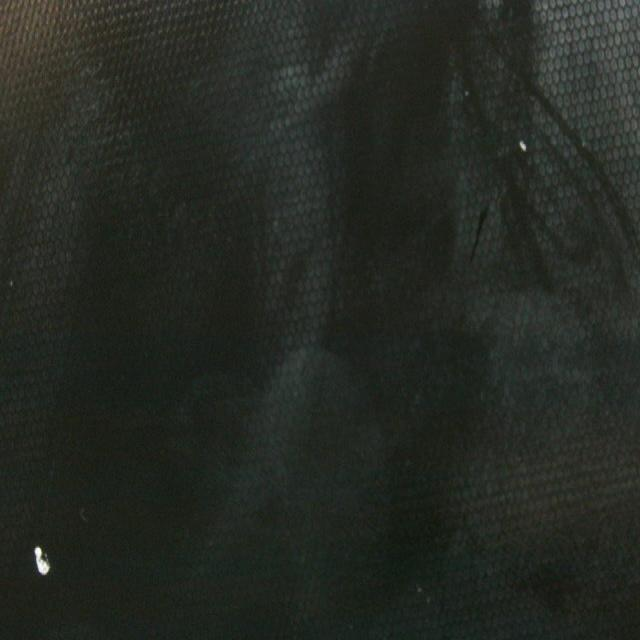very small scratch: (30, 537, 54, 585)
